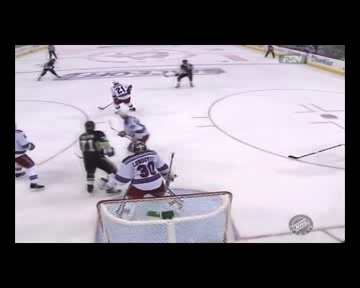normal: (74, 117, 178, 200), (96, 76, 141, 114), (170, 56, 197, 93)
